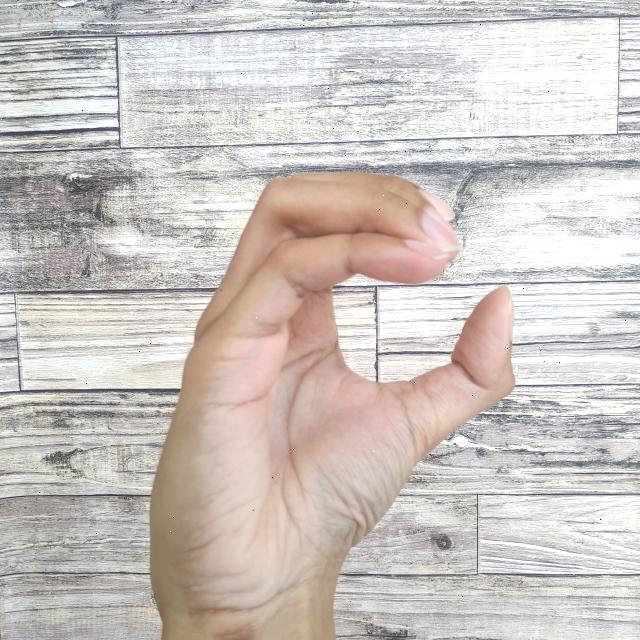C: (152, 166, 520, 640)
